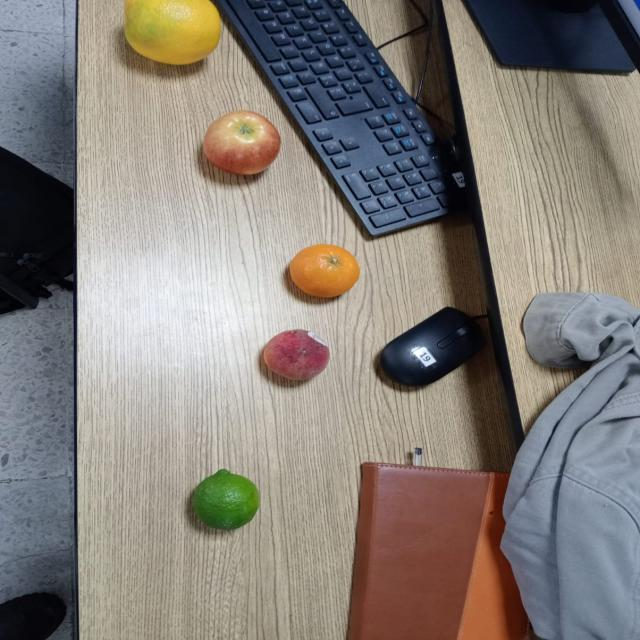Apel Gala: (194, 103, 286, 182)
Jeruk: (100, 0, 243, 67)
Jeruk Mandarin: (282, 237, 363, 305)
Lemon: (178, 462, 267, 535)
Persik: (255, 325, 336, 386)
